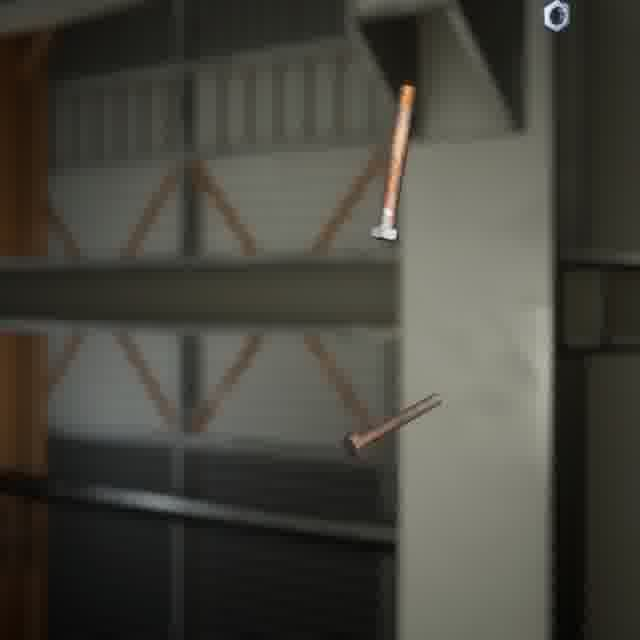bolt: (367, 81, 420, 245), (337, 388, 446, 462)
nut: (534, 0, 574, 37)
